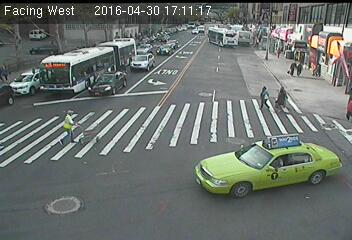neg: (213, 27, 229, 49), (262, 44, 272, 58)
pos: (56, 107, 85, 146), (253, 83, 274, 110), (272, 84, 290, 107), (338, 91, 351, 122), (294, 59, 307, 76), (286, 61, 297, 75)
